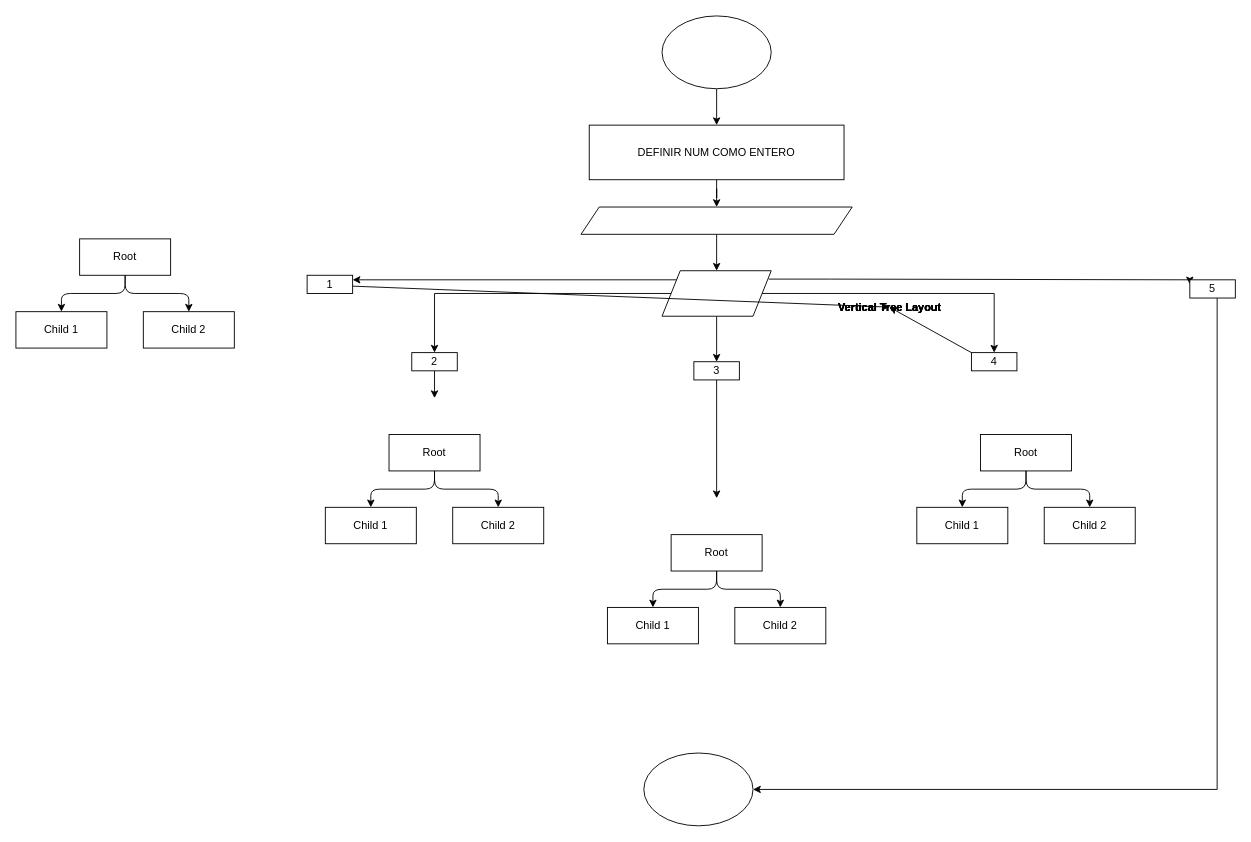
Image size: 1251x842. Some labels were removed from this diagram. The shapes that lost their labels are listed below. From the top down, each one's box as (x1, y1, x2, y2) in pixels, then its label:
(580, 206, 852, 234): INGRESE UNA OPCIÓN
(661, 270, 771, 316): NUM
